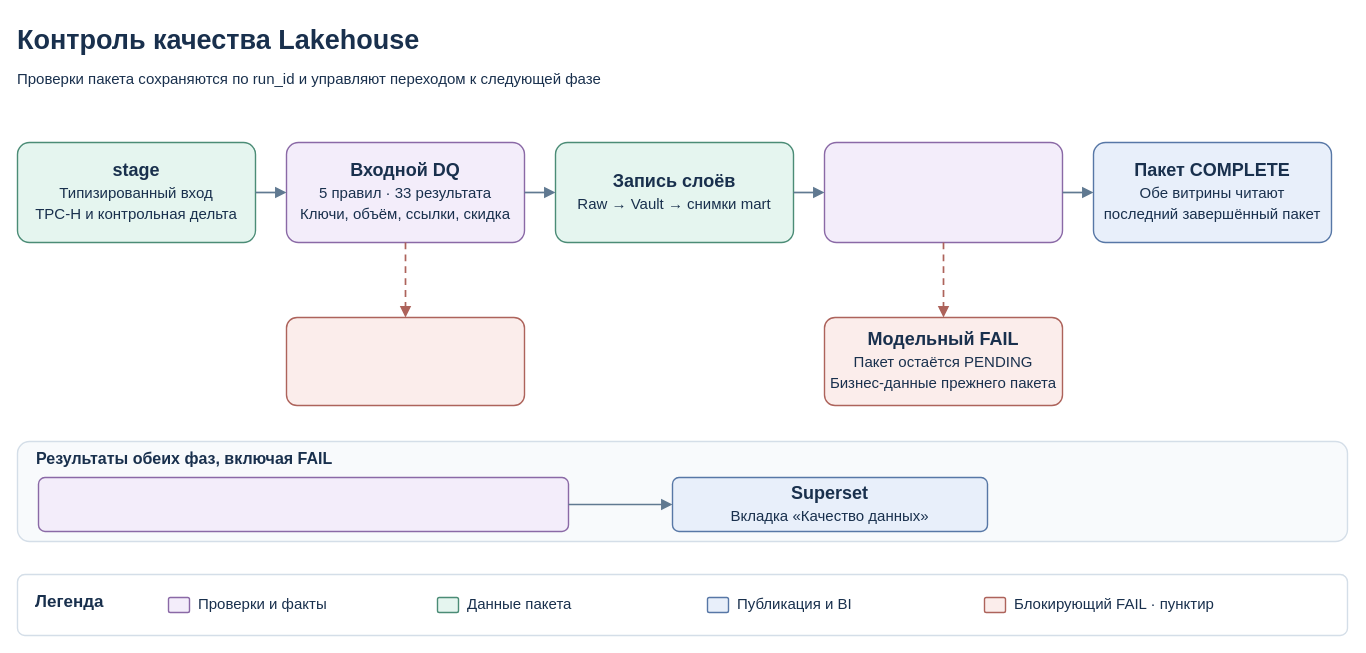
Image size: 1366x653. Some labels were removed from this diagram. The shapes that lost their labels are listed below. From the top down, each one's box as (x1, y1, x2, y2) in pixels, then its label:
(823, 141, 1063, 243): Модельный DQ 5 правил · 59 результатов Ключи, версии и сверка
(285, 316, 525, 406): Входной FAIL До записи в Raw Invalid: скидка 1,25
(37, 476, 569, 532): ops.dq_results Пакет, попытка, правило, объект, факт и статус
